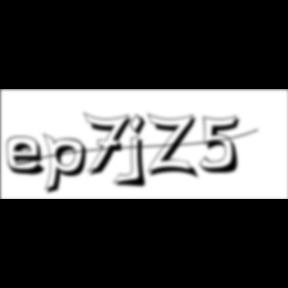5: (200, 114, 246, 176)
7: (84, 111, 138, 179)
Z: (147, 112, 202, 181)
e: (7, 135, 53, 178)
j: (126, 113, 154, 191)
p: (44, 132, 94, 198)
